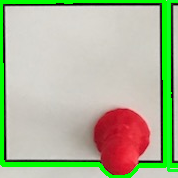Red Pawn: (89, 105, 152, 176)
